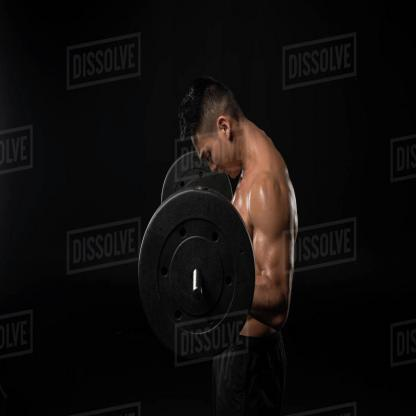Barbell: (188, 288, 208, 310)
